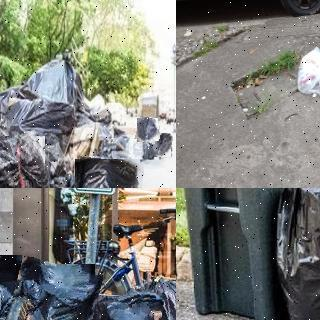Garbage: (275, 188, 320, 320), (8, 259, 99, 320), (0, 132, 48, 188), (87, 292, 164, 320), (73, 157, 142, 188), (133, 273, 176, 320), (0, 252, 26, 320), (14, 301, 89, 320), (295, 44, 320, 99), (149, 132, 172, 158), (136, 117, 159, 143)
